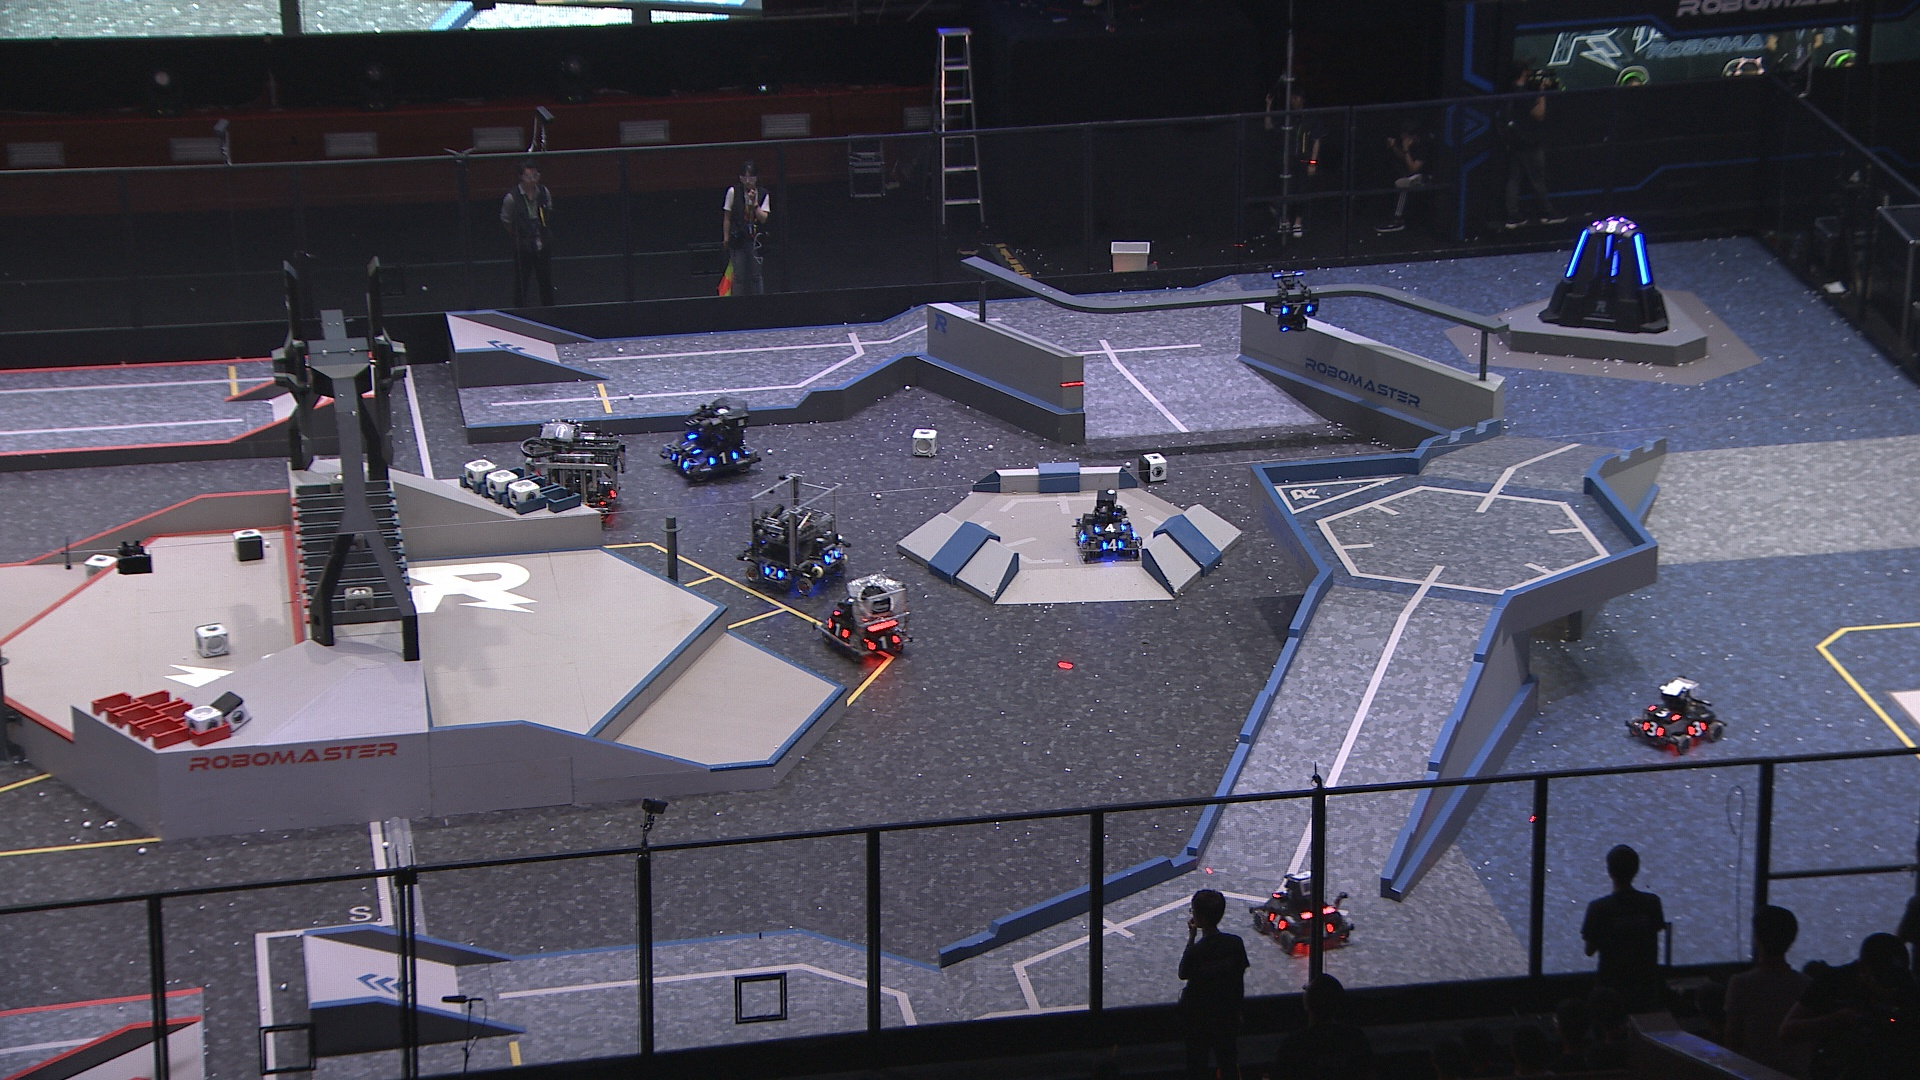armor: (1564, 229, 1588, 278), (1633, 233, 1651, 285), (866, 633, 902, 651), (1646, 704, 1681, 721), (1278, 302, 1315, 318), (707, 451, 740, 467), (1643, 719, 1665, 741), (1266, 911, 1287, 932), (1093, 520, 1126, 533), (825, 621, 851, 638), (1687, 717, 1708, 737), (1098, 537, 1124, 553), (822, 547, 844, 564), (764, 564, 785, 582), (669, 452, 690, 469), (1602, 233, 1614, 262), (1607, 248, 1619, 277), (680, 439, 702, 455), (1077, 527, 1088, 546)
base: (1538, 214, 1671, 334)
car: (738, 473, 851, 593), (520, 418, 626, 520), (659, 394, 764, 484), (1250, 869, 1358, 955), (811, 571, 913, 662), (1625, 675, 1726, 756), (1073, 488, 1143, 562)
ignore: (1593, 216, 1631, 233)
watcher: (1262, 268, 1317, 334)
